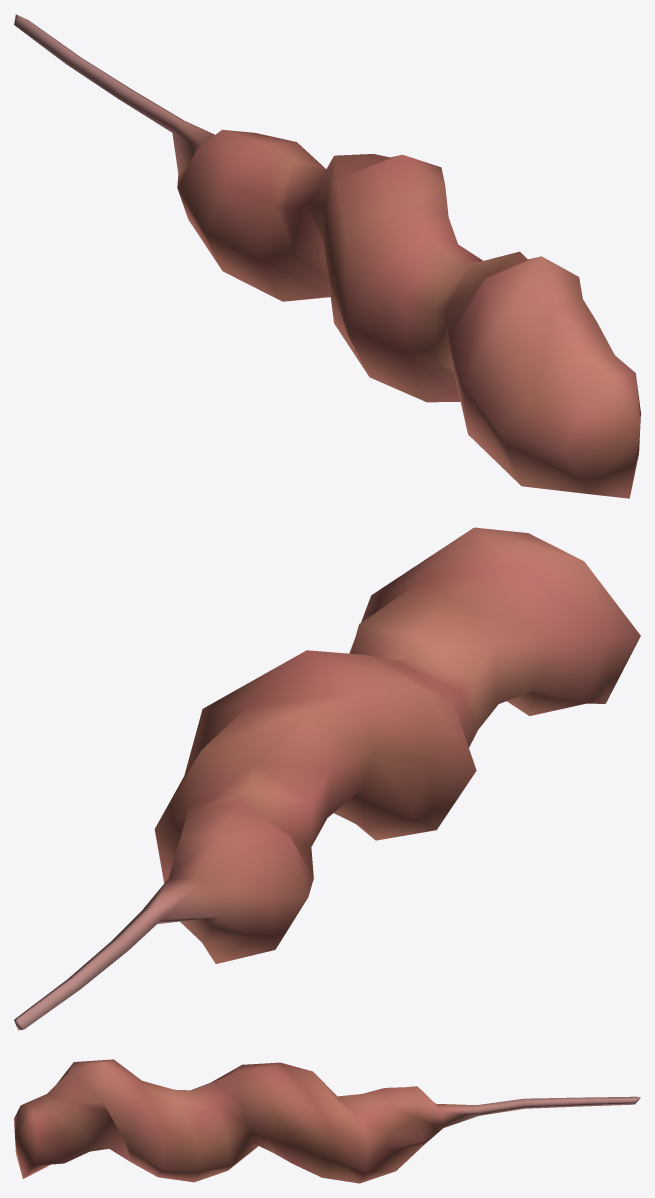
File: microscopic-bacteria-wavy-bacterium_v3.glb
The picture shows the model from 3 angles, top to bottom: view 1: azimuth 30°, elevation 25°; view 2: azimuth 150°, elevation 25°; view 3: azimuth 270°, elevation 25°; orthographic projection. The views are drawn at different scales.
Visible parts, largest first — view 1: Wavy Bacterium_v3; view 2: Wavy Bacterium_v3; view 3: Wavy Bacterium_v3.
Boxes of the visible parts, x1,y1,x2,y2 form: Wavy Bacterium_v3: (14, 14, 640, 498); Wavy Bacterium_v3: (14, 527, 640, 1030); Wavy Bacterium_v3: (14, 1059, 640, 1183).
Size of the model in its own units: 0.0759 by 0.0823 by 0.4.
